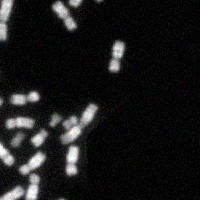chromosome: (59, 103, 98, 145), (51, 1, 76, 31), (18, 151, 45, 176), (0, 0, 13, 41), (0, 132, 15, 166), (108, 39, 123, 72), (65, 145, 79, 177), (10, 91, 39, 105), (5, 117, 34, 130), (0, 185, 24, 200), (26, 173, 39, 200), (31, 129, 48, 147), (62, 116, 77, 130), (11, 131, 25, 146), (48, 113, 61, 126), (69, 0, 85, 8), (35, 197, 67, 200), (0, 96, 2, 119), (86, 0, 103, 2)
